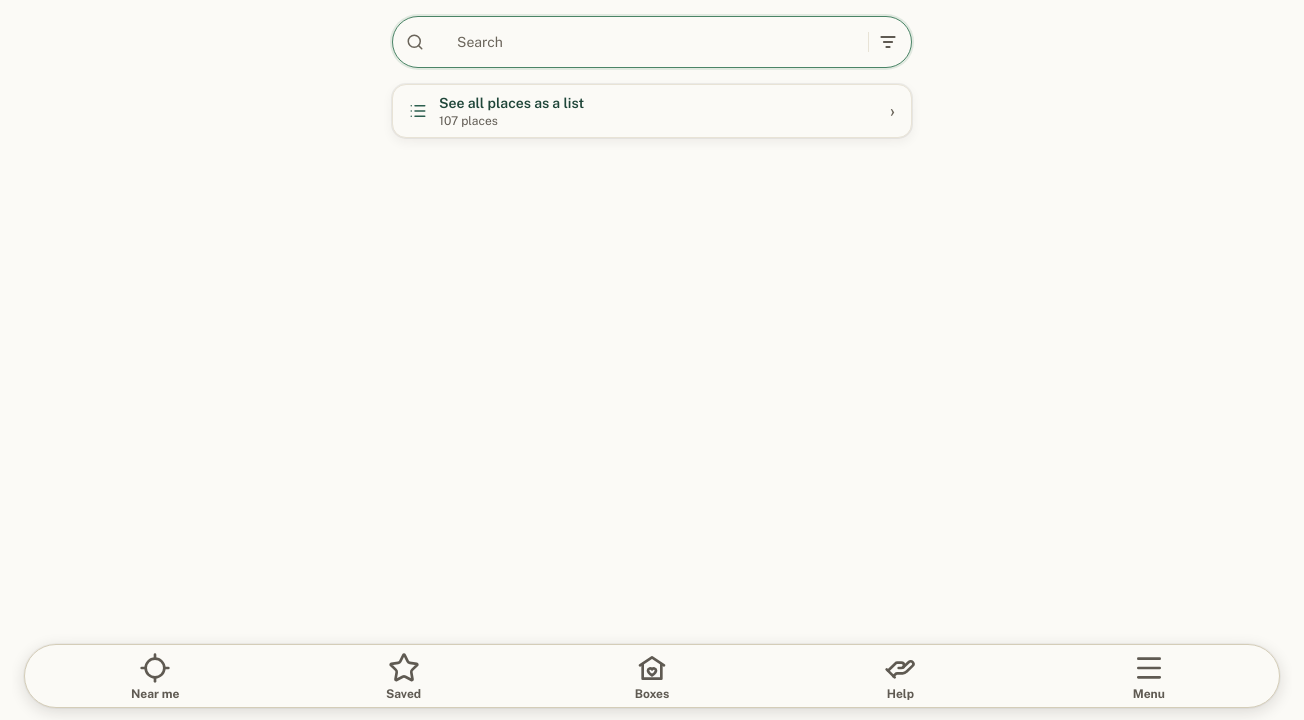
Test: MapWrapper — ViewSuggestion on an empty, focused search bar (#514) › real flow: tapping the (now-blurred) bar again after switching still offers the other direction
What coordinates should you click on to do the following:
click the button "See all places as a list 107 places ›"
I would click on:
 (512, 103)
Its box is left=393, top=85, right=911, bottom=137.
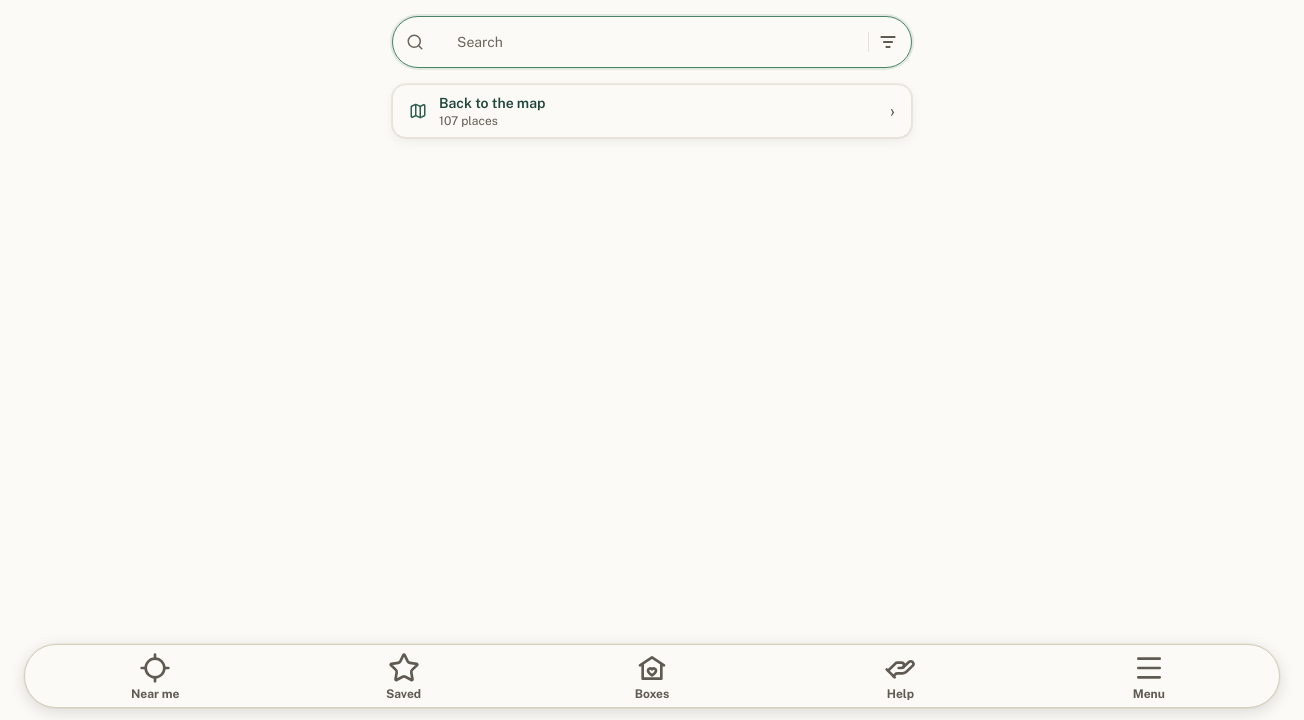
Expected: the button "Back to the map 107 places ›" is shown, left=393, top=85, right=911, bottom=137
